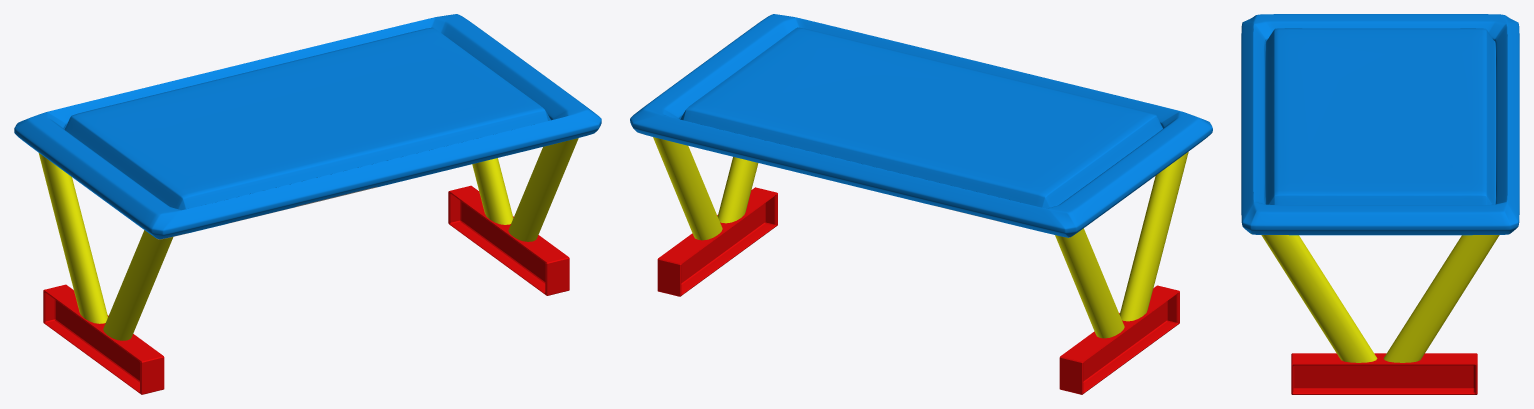
File: new_table 1_LS.fbx
3 views of the same model, side by side, from view 1: azimuth 30°, elevation 25°; view 2: azimuth 150°, elevation 25°; view 3: azimuth 270°, elevation 25° (orthographic). The views are drawn at different scales.
Parts seen in each view (by area): view 1: simple_tble; view 2: simple_tble; view 3: simple_tble.
Part boxes in pixels (x1,y1,x2,y2): simple_tble: [14, 14, 601, 394]; simple_tble: [630, 14, 1212, 394]; simple_tble: [1241, 14, 1519, 394].
Bounding box in the file's own units: 253 × 105 × 143.
